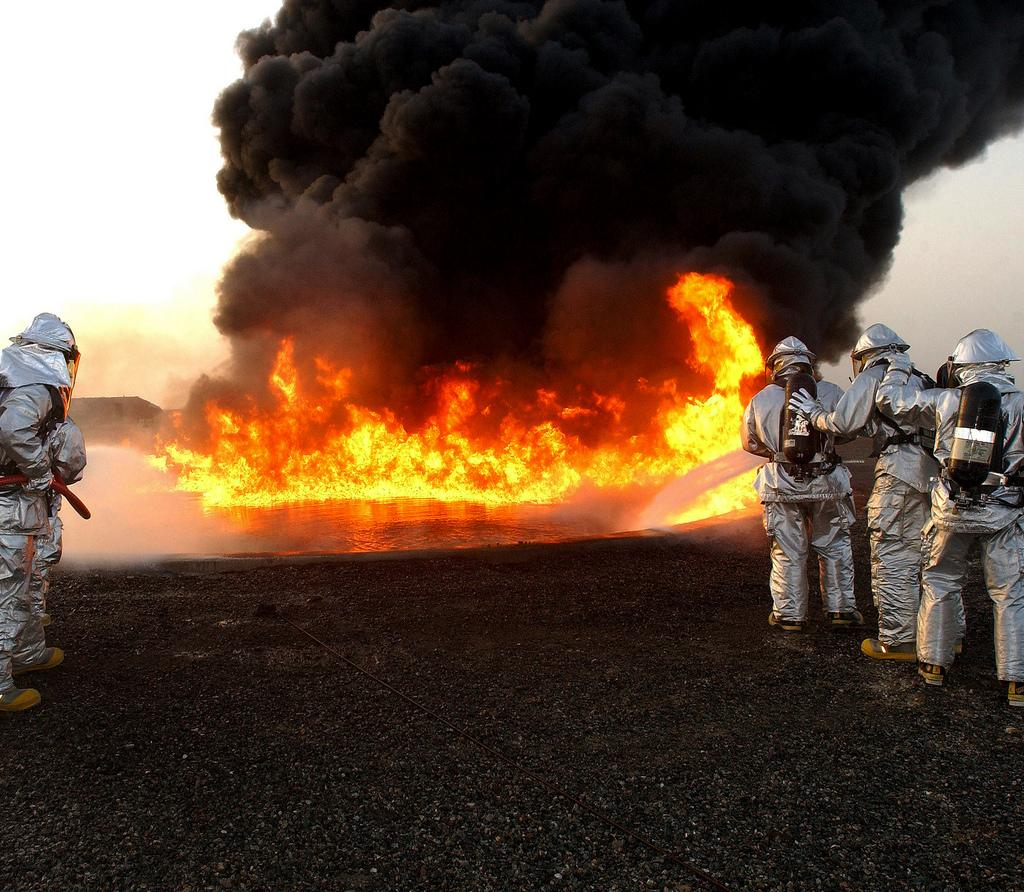fire: (202, 408, 605, 505), (678, 295, 762, 458)
smoke: (345, 22, 890, 198)
